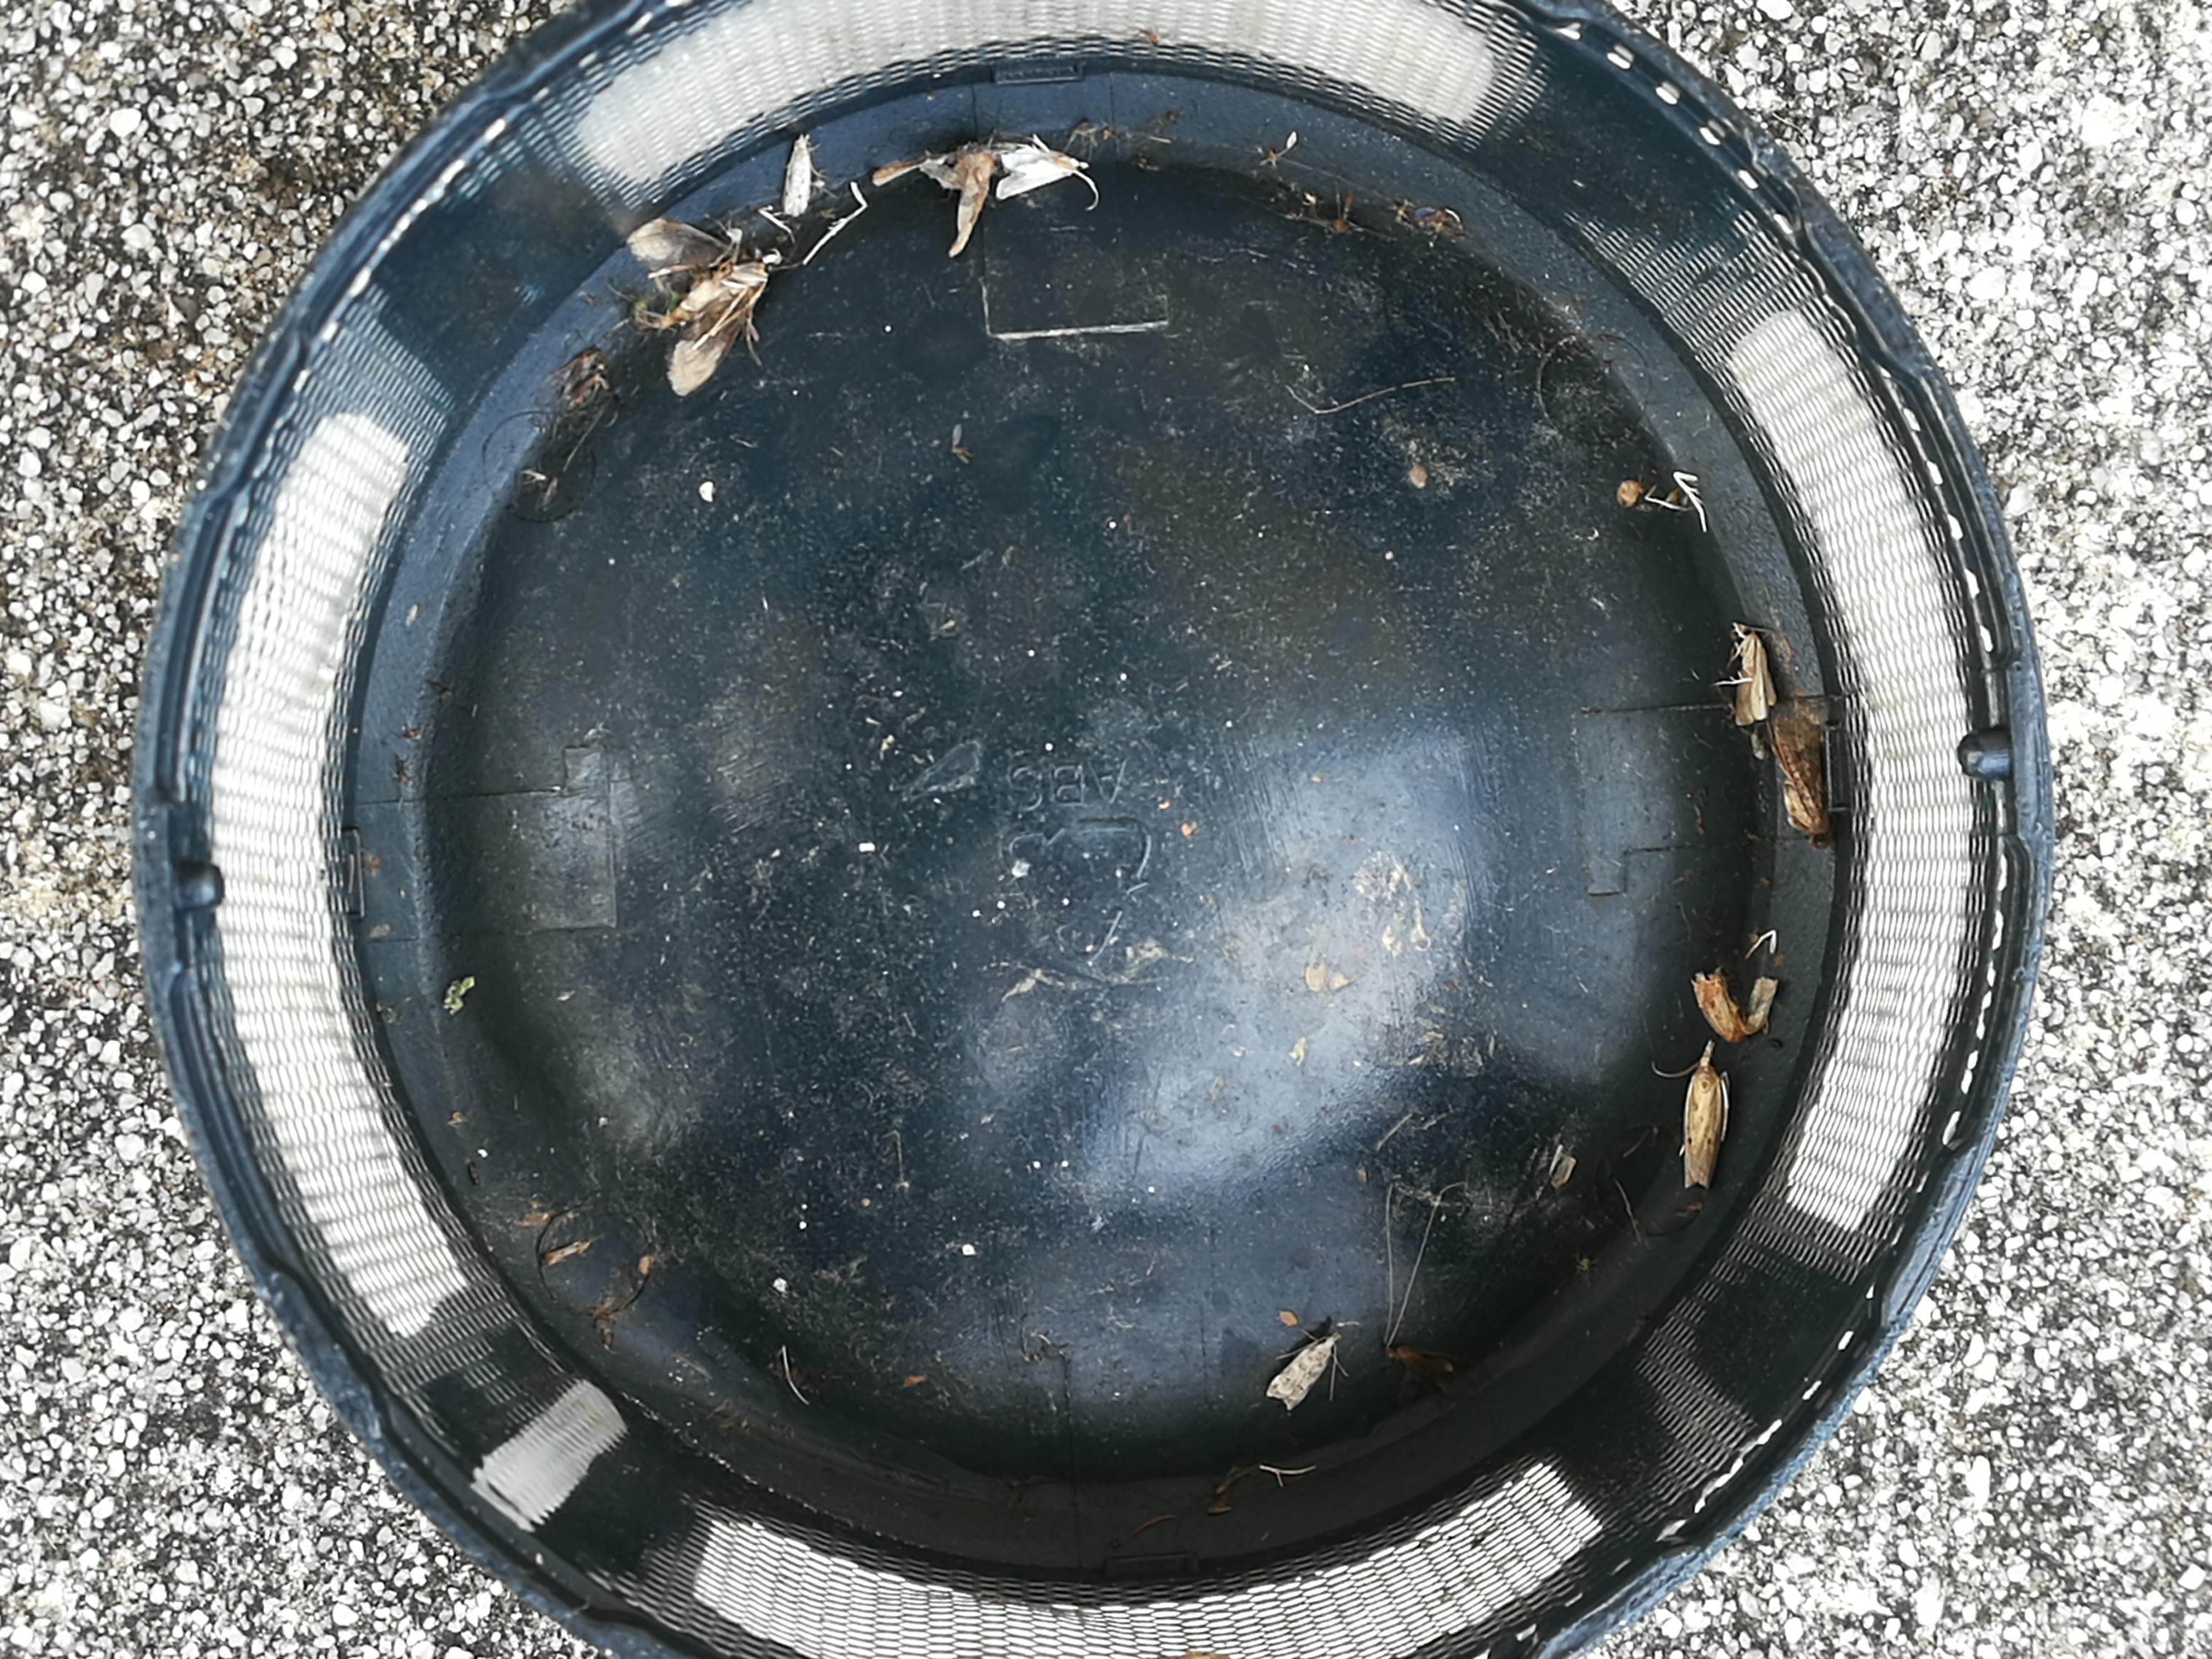mosquito: (1684, 1065, 1726, 1187), (1383, 1344, 1479, 1396), (1270, 1338, 1338, 1410), (1735, 622, 1768, 725), (784, 132, 812, 214)
moth: (629, 221, 782, 392), (1775, 697, 1824, 833), (1693, 974, 1778, 1040), (996, 146, 1083, 199)
